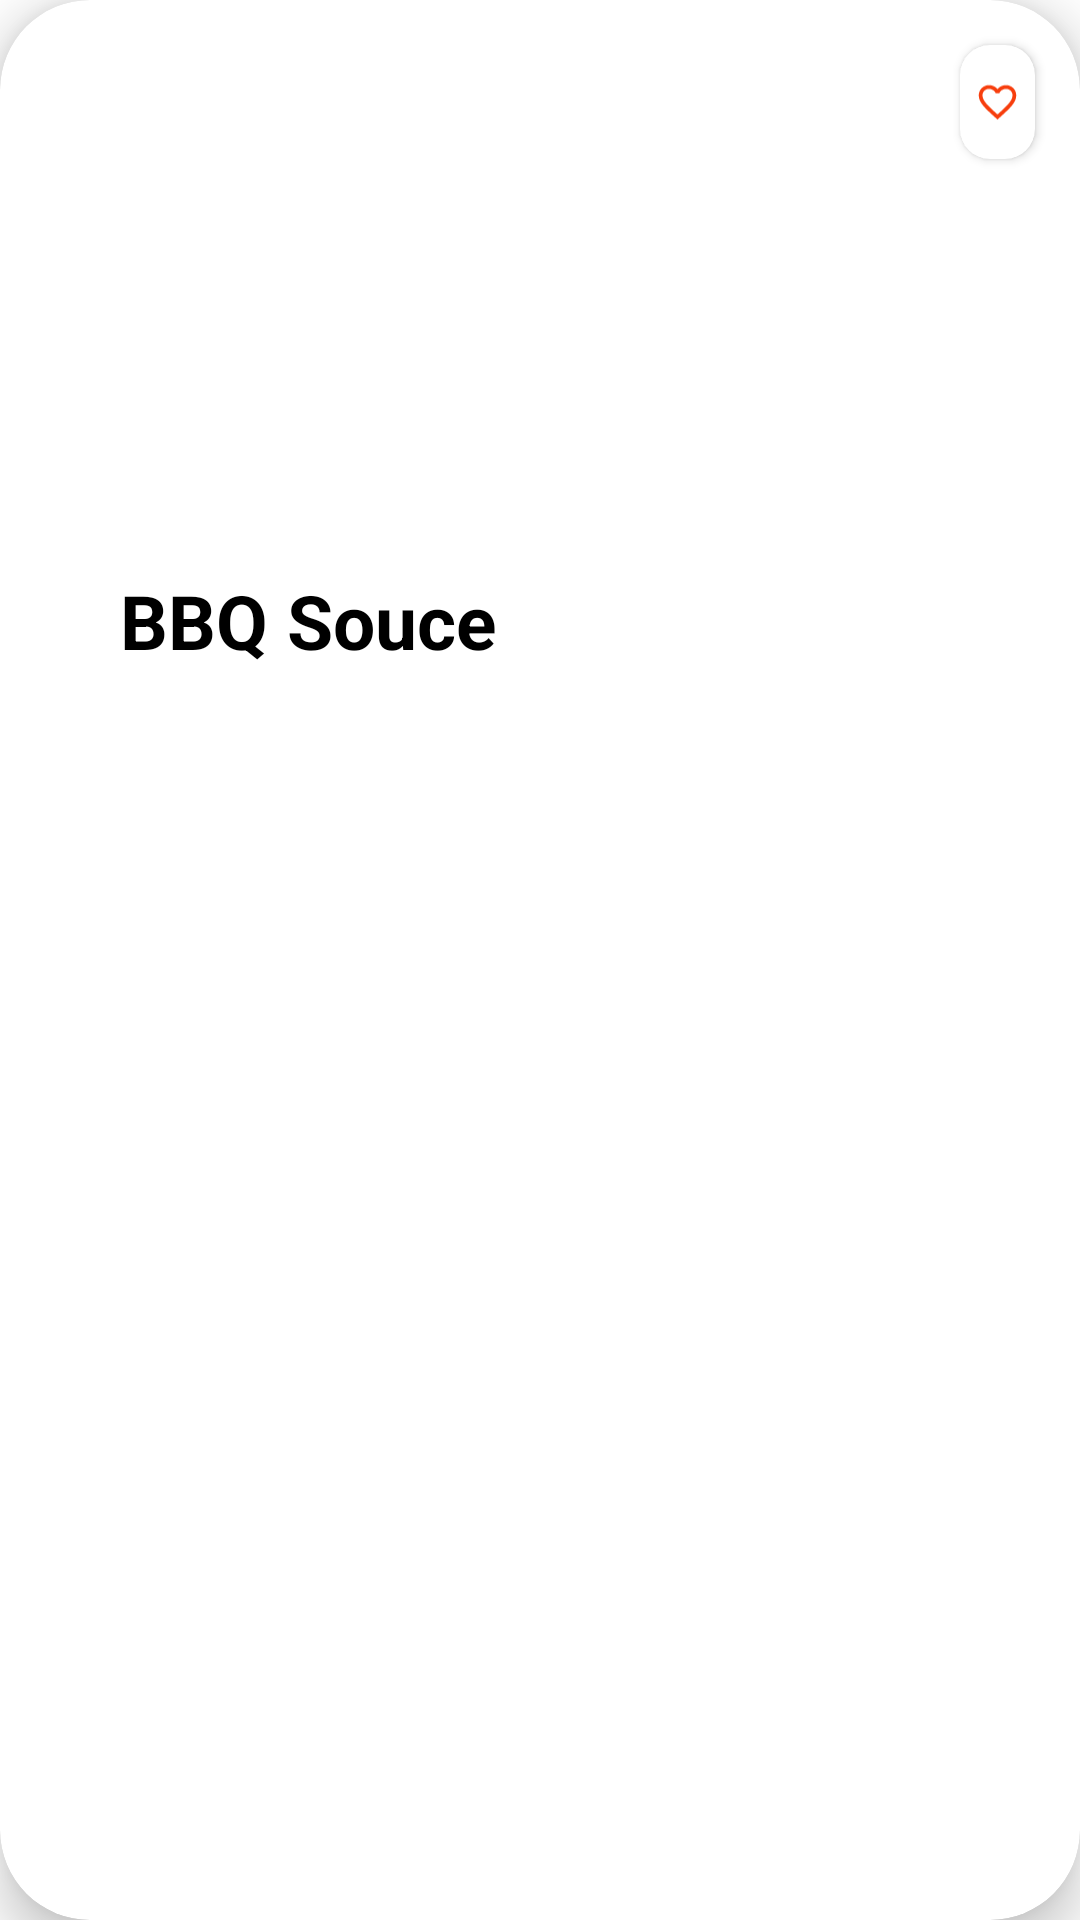

Where icons sit on this 1080×1920 app screen, as bbox=[x1, y1, x2, y2]:
add favorite: bbox=[978, 45, 1035, 159]
